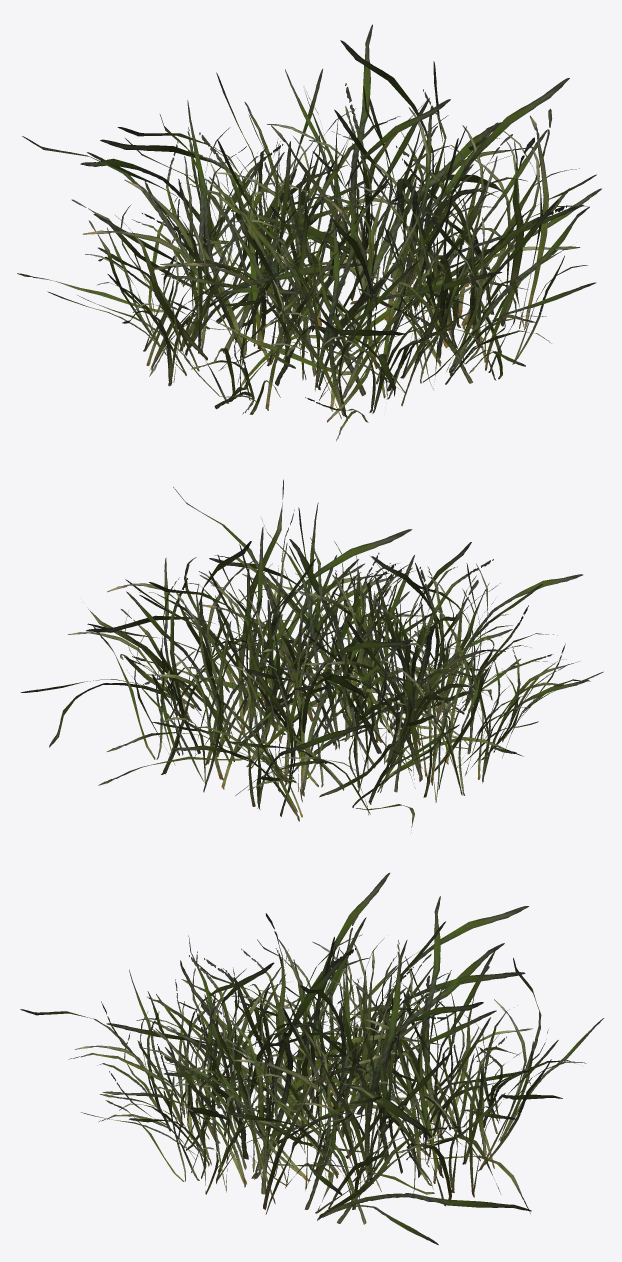
File: grass_medium_01_large_a.gltf
3 renders of one model, top to bottom at view 1: azimuth 30°, elevation 25°; view 2: azimuth 150°, elevation 25°; view 3: azimuth 270°, elevation 25°, orthographic. The views are drawn at different scales.
Parts seen in each view (by area): view 1: grass_medium_01_large_a_LOD0; view 2: grass_medium_01_large_a_LOD0; view 3: grass_medium_01_large_a_LOD0.
Part boxes in pixels (x1=…): grass_medium_01_large_a_LOD0: x1=17, y1=24, x2=601, y2=441; grass_medium_01_large_a_LOD0: x1=20, y1=479, x2=603, y2=832; grass_medium_01_large_a_LOD0: x1=20, y1=873, x2=603, y2=1245.
Size of the model in its own units: 0.317 by 0.1467 by 0.3266.
1 material, 1 textured.
